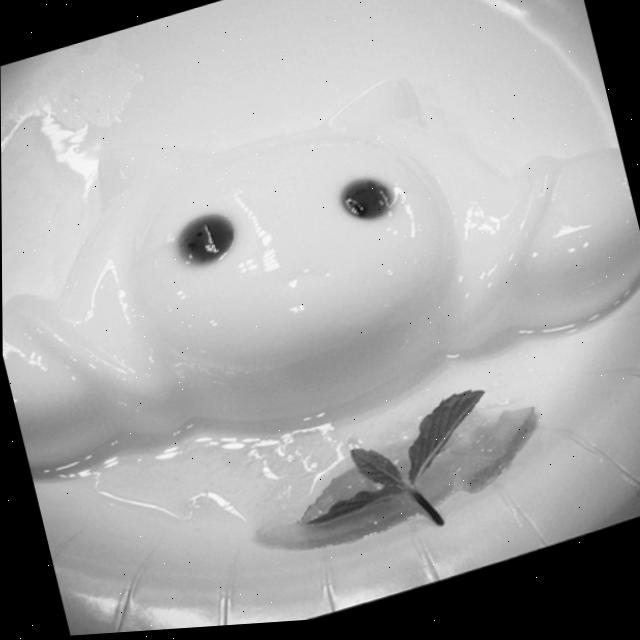面条主食: (7, 0, 617, 640)
